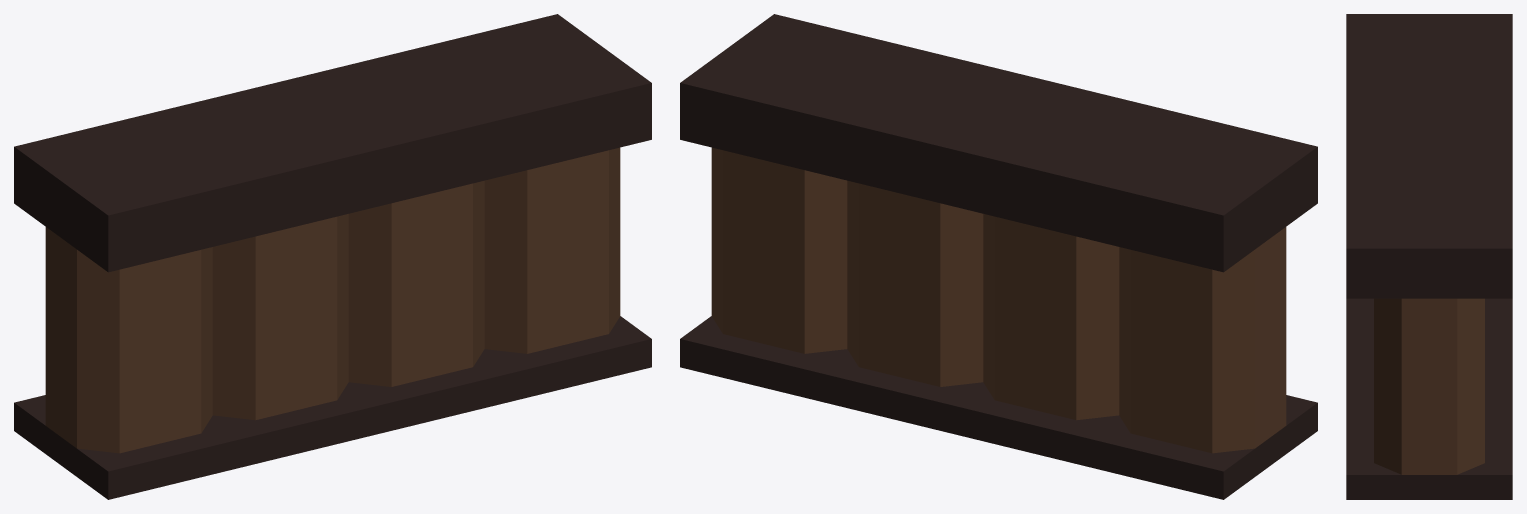
Rendered from WoodenStand.fbx.
3 views of the same model, side by side, from view 1: azimuth 30°, elevation 25°; view 2: azimuth 150°, elevation 25°; view 3: azimuth 270°, elevation 25° (orthographic). The views are drawn at different scales.
Visible parts, largest first — view 1: WoodenStand; view 2: WoodenStand; view 3: WoodenStand.
Boxes of the visible parts, <box> form: WoodenStand: <box>14,14,651,499</box>; WoodenStand: <box>680,14,1317,499</box>; WoodenStand: <box>1346,14,1512,499</box>.
Bounding box in the file's own units: 200 × 100 × 60.
